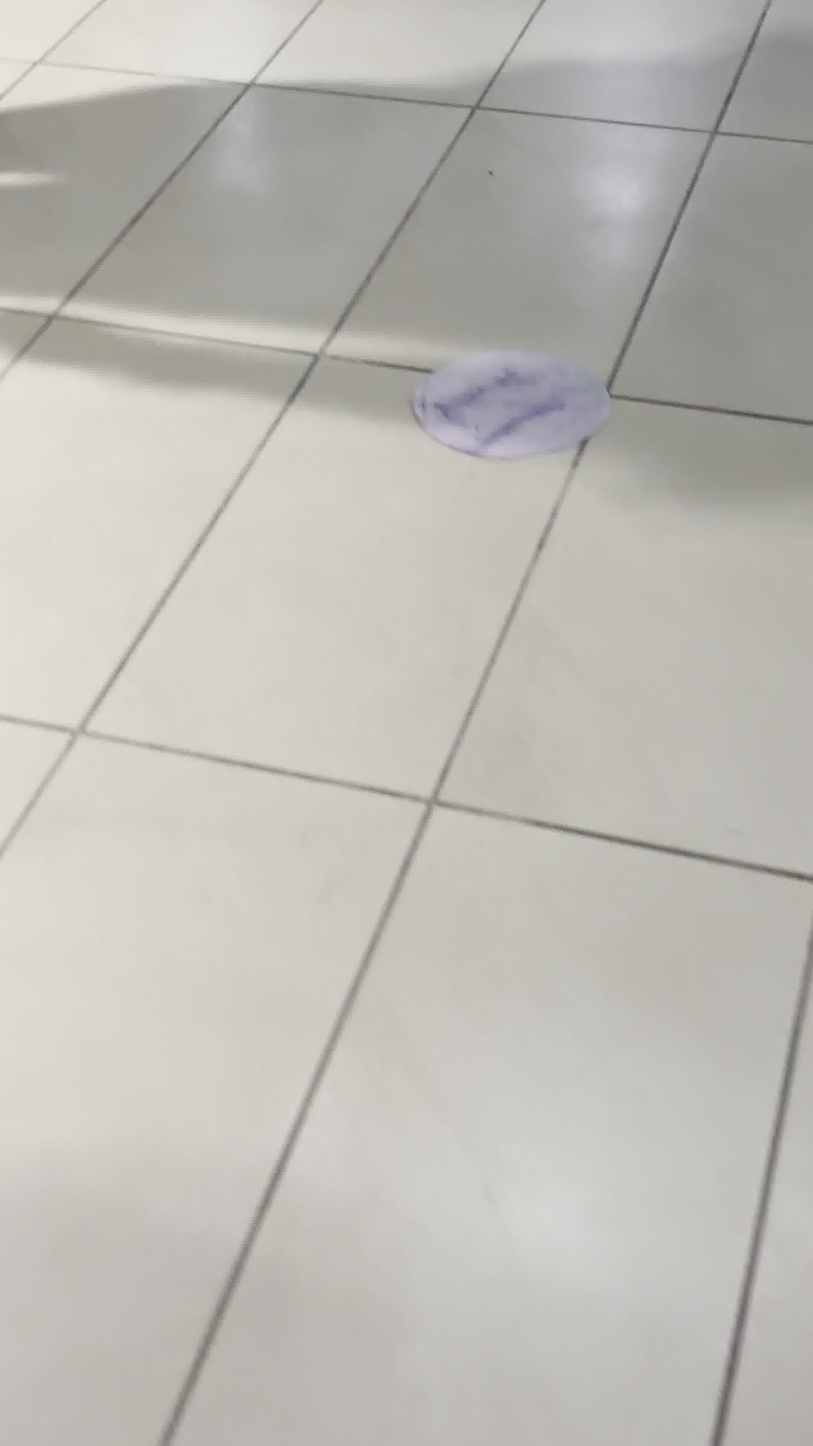Target: (406, 344, 613, 460)
